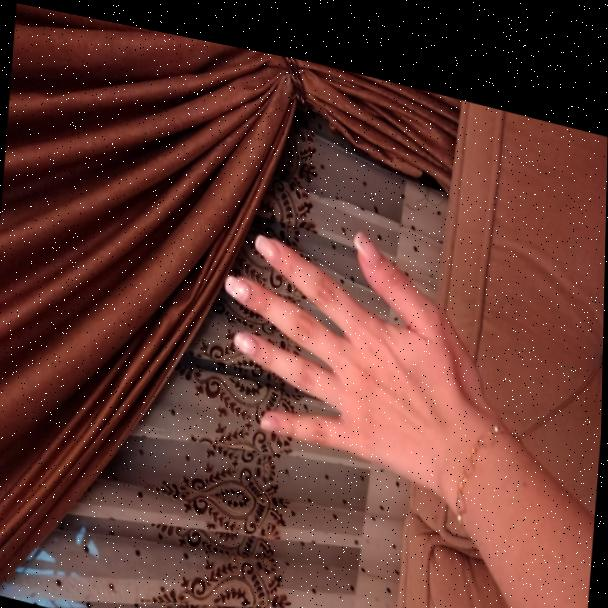five: (211, 184, 484, 517)
